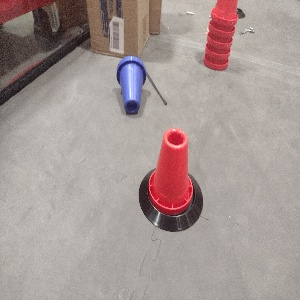Blue_1: (113, 53, 148, 114)
Red_1: (146, 123, 193, 213), (202, 0, 238, 70)
